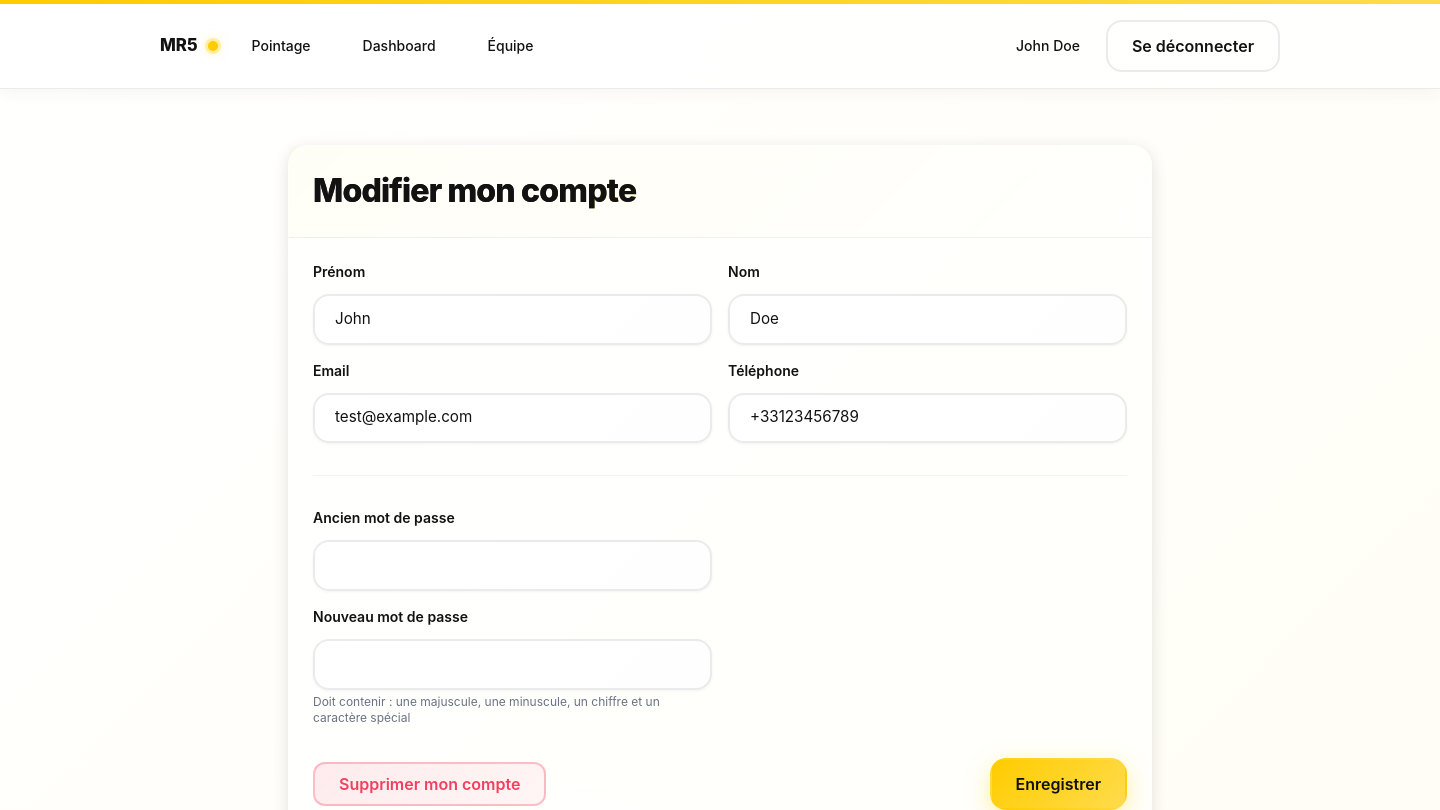
AccountPage Component › should successfully update profile with valid data
The width and height of the screenshot is (1440, 810).
Clear the field showing "John" below "Prénom": (512, 319) x1=313 y1=294 x2=712 y2=344
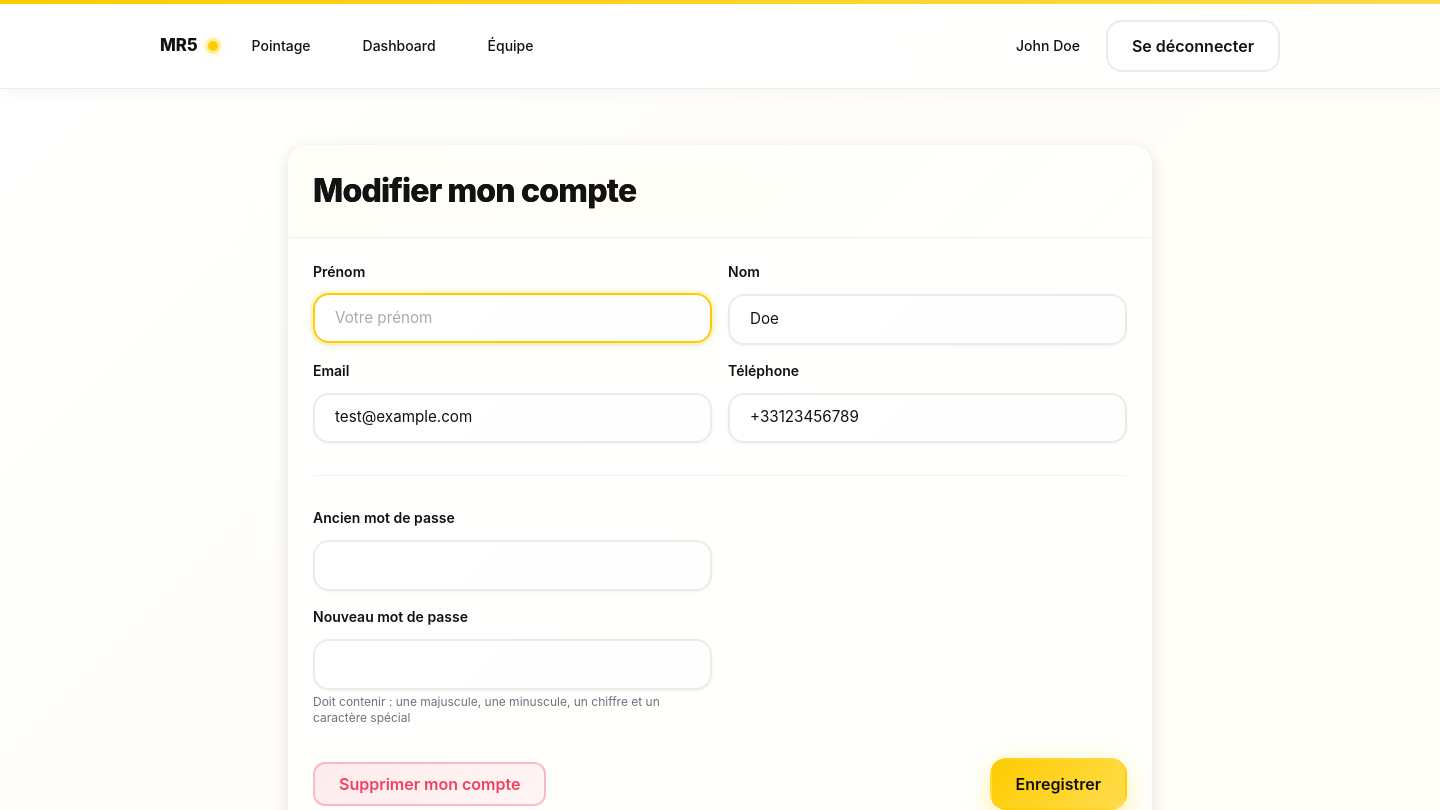
In the field showing "John": (512, 318) x1=313 y1=293 x2=712 y2=344, type "Jane"
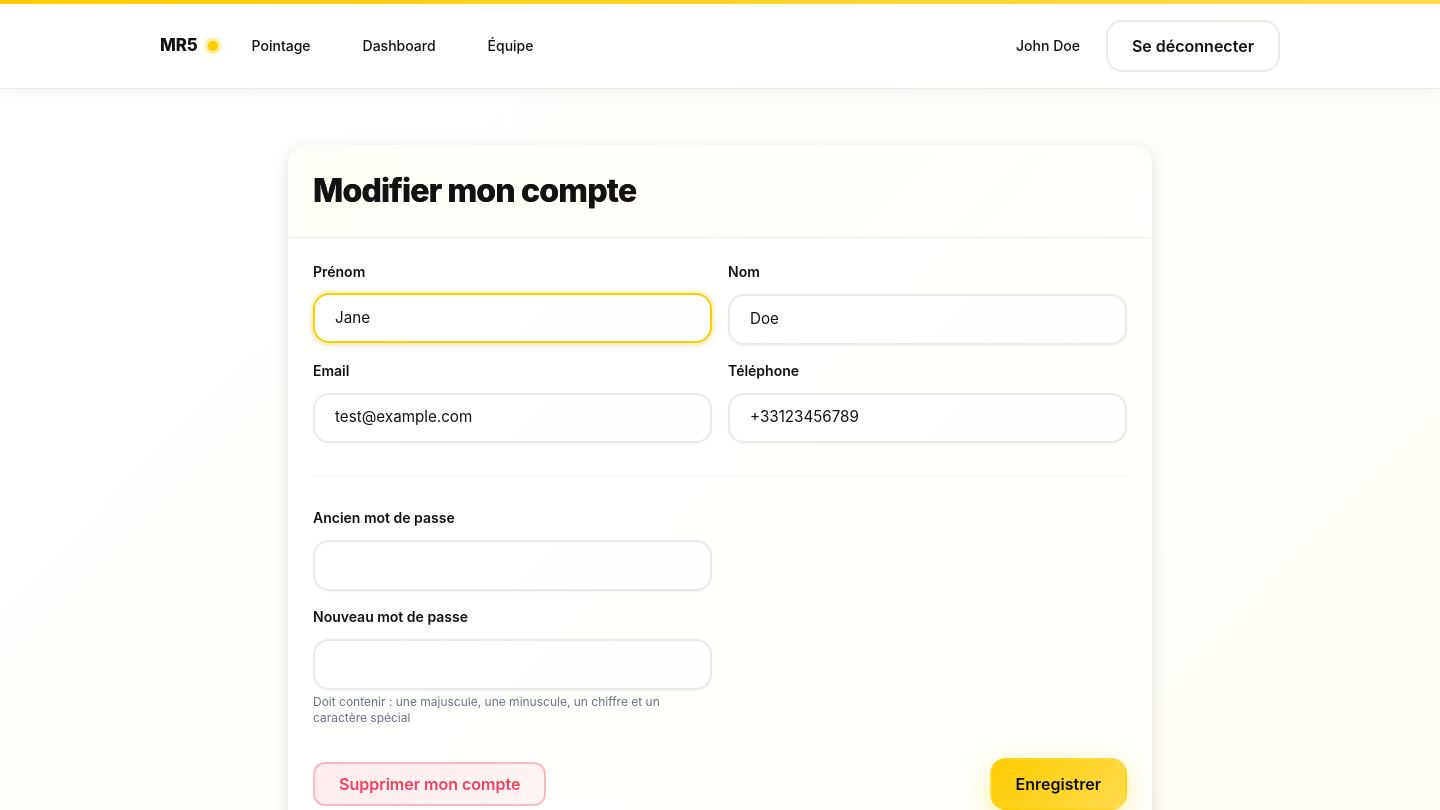
Click the button "Enregistrer": (1058, 784) x1=990 y1=758 x2=1127 y2=809
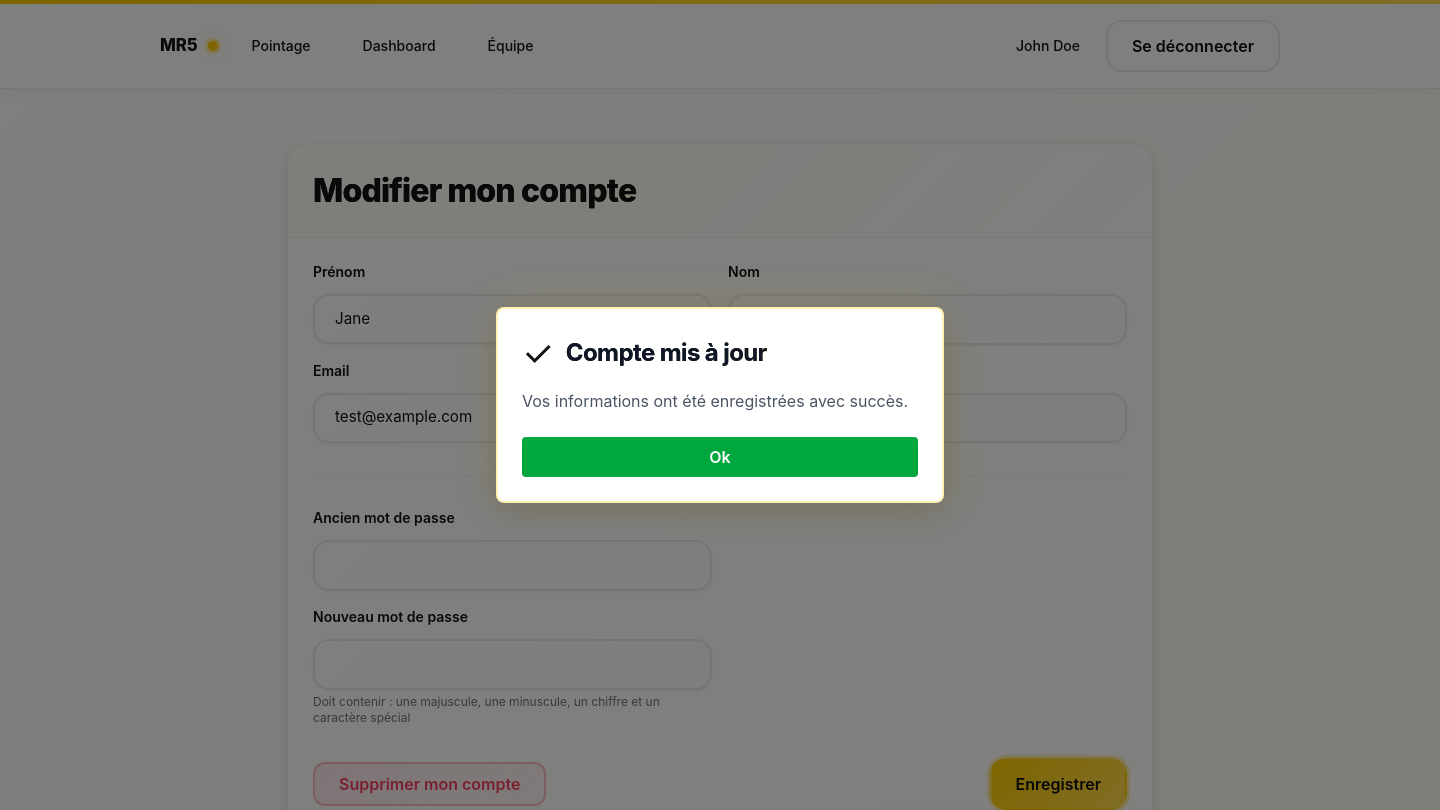
Expected: the heading "Compte mis à jour" is shown, x1=566 y1=336 x2=767 y2=370
